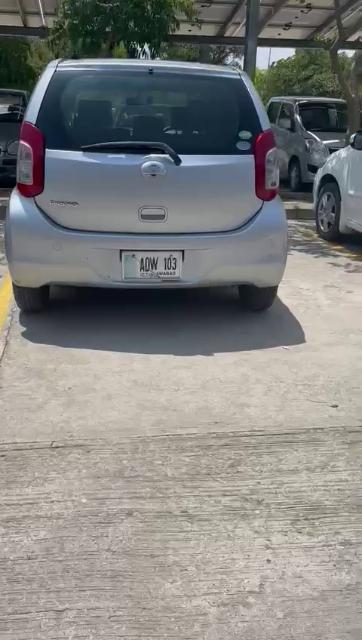plate: (121, 250, 182, 282)
